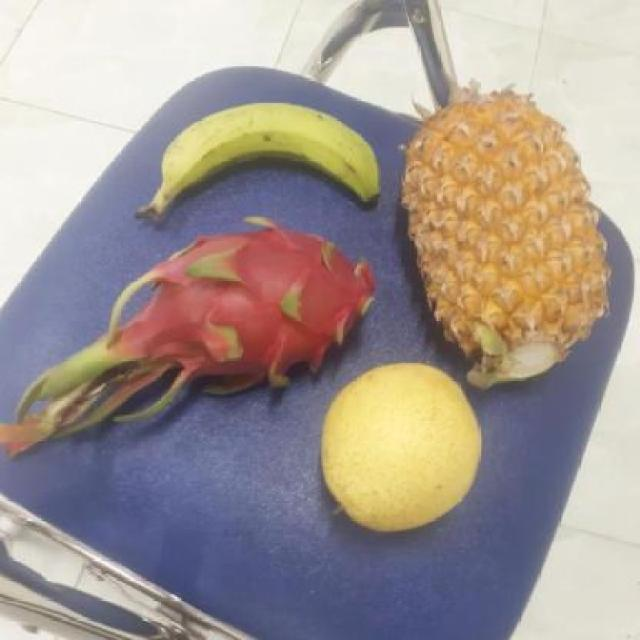banana: (152, 108, 392, 225)
dragon fruit: (120, 220, 388, 382)
pear: (306, 359, 485, 533)
pineapple: (404, 99, 608, 376)
